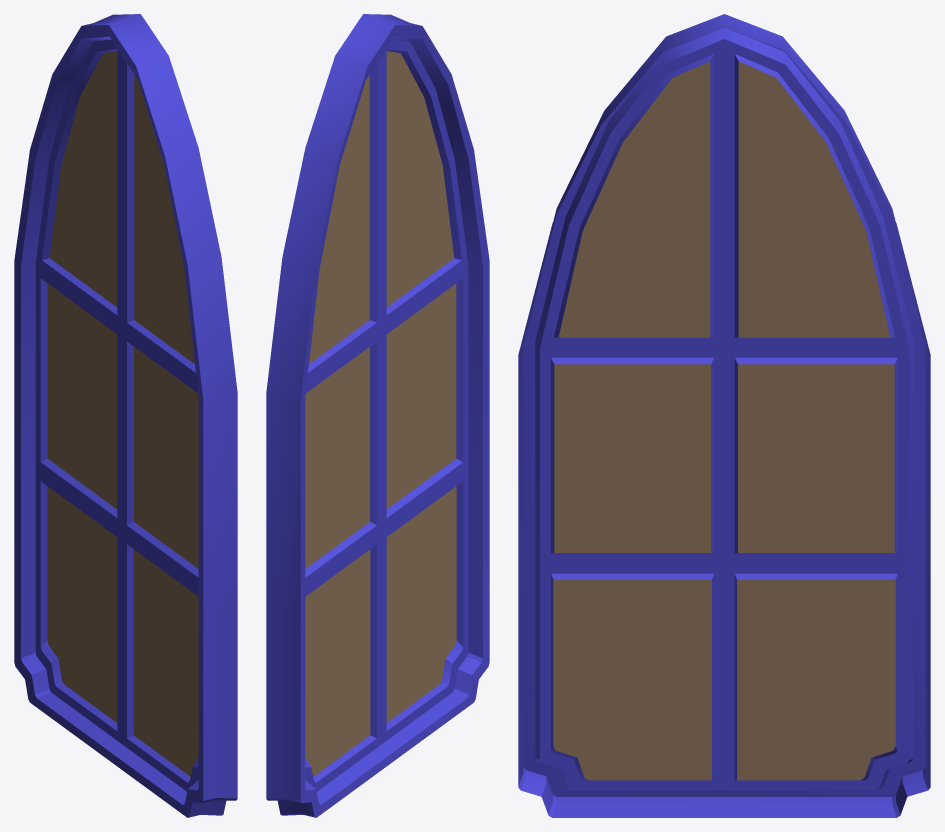
The model's file is SM_FenetreHaute_low.fbx.
The picture shows the model from 3 angles, left to right: view 1: azimuth 30°, elevation 25°; view 2: azimuth 150°, elevation 25°; view 3: azimuth 270°, elevation 25°; orthographic projection. The views are drawn at different scales.
Visible parts, largest first — view 1: SM_FenetreHaute_low; view 2: SM_FenetreHaute_low; view 3: SM_FenetreHaute_low.
Boxes of the visible parts, bbox=[...] form: SM_FenetreHaute_low: bbox=[14, 14, 237, 817]; SM_FenetreHaute_low: bbox=[266, 14, 489, 817]; SM_FenetreHaute_low: bbox=[518, 14, 930, 817].
Bounding box in the file's own units: 21.35 × 473 × 224.
